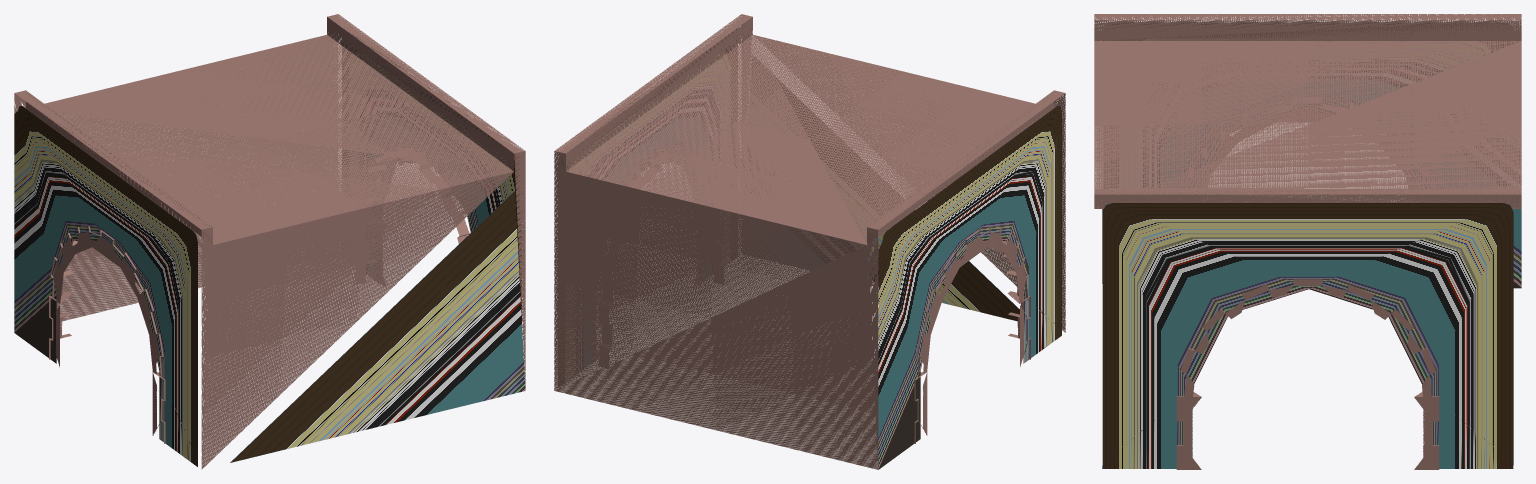
The model's file is SW_ENV_WalledStraight_DoubleTrack_Short_Collision.fbx.
3 renders of one model, left to right at view 1: azimuth 30°, elevation 25°; view 2: azimuth 150°, elevation 25°; view 3: azimuth 270°, elevation 25°, orthographic. The views are drawn at different scales.
Parts seen in each view (by area): view 1: SW_ENV_WalledStraight_DoubleTrack_Short_Collision; view 2: SW_ENV_WalledStraight_DoubleTrack_Short_Collision; view 3: SW_ENV_WalledStraight_DoubleTrack_Short_Collision.
Part boxes in pixels (x1=…): SW_ENV_WalledStraight_DoubleTrack_Short_Collision: x1=14, y1=14, x2=525, y2=469; SW_ENV_WalledStraight_DoubleTrack_Short_Collision: x1=554, y1=14, x2=1065, y2=469; SW_ENV_WalledStraight_DoubleTrack_Short_Collision: x1=1094, y1=14, x2=1521, y2=469.
Size of the model in its own units: 10.1 by 7.08 by 10.
